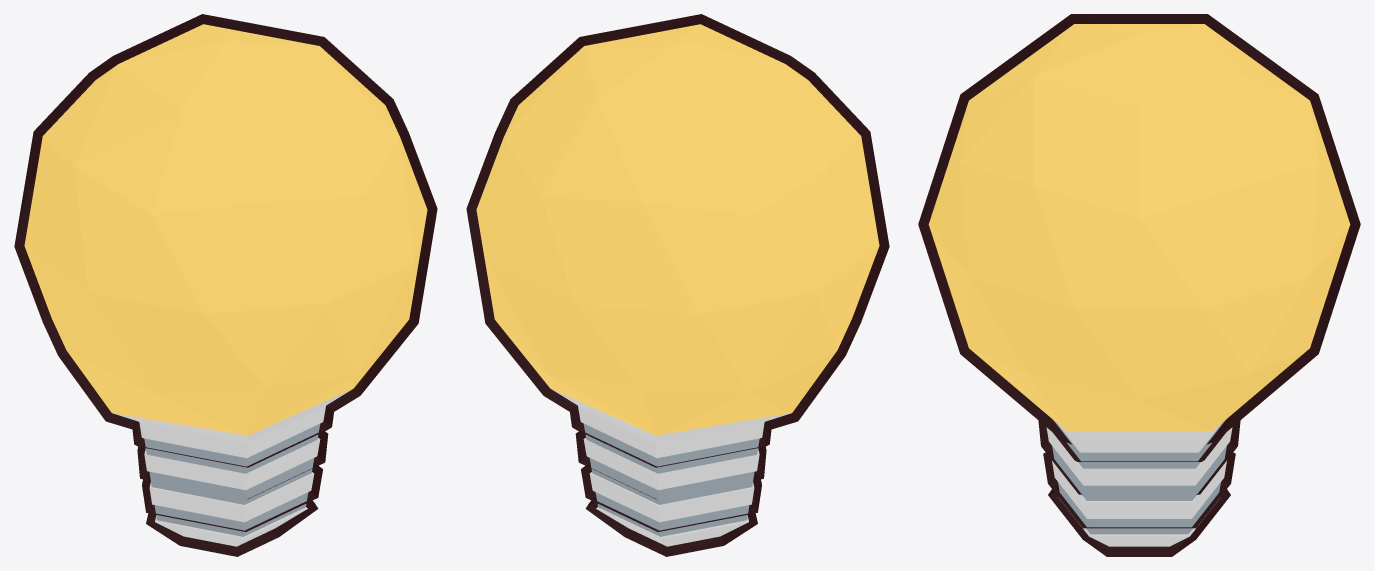
Rendered from lampara.glb.
3 renders of one model, left to right at view 1: azimuth 30°, elevation 25°; view 2: azimuth 150°, elevation 25°; view 3: azimuth 270°, elevation 25°, orthographic. The views are drawn at different scales.
Visible parts, largest first — view 1: Icosphere; view 2: Icosphere; view 3: Icosphere.
Part boxes in pixels (x1,y1,x2,y2): Icosphere: (14,14,437,556); Icosphere: (466,14,889,556); Icosphere: (918,14,1360,556).
Bounding box in the file's own units: 2 × 2.69 × 2.1.
